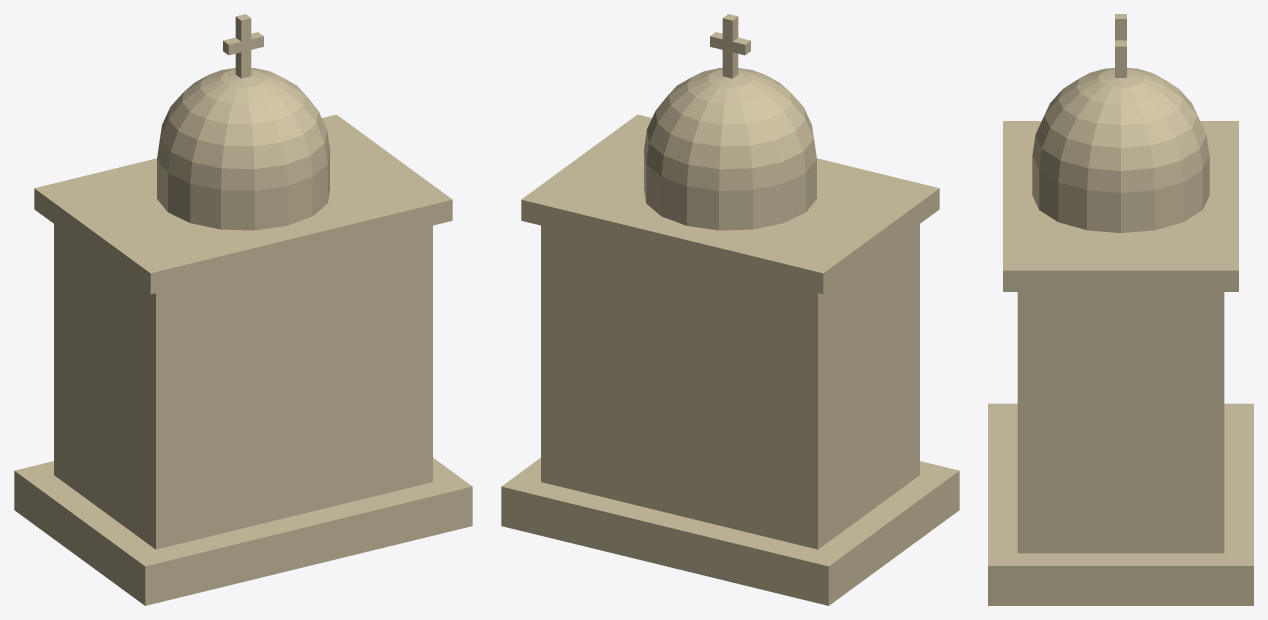
Rendered from tumba1.obj.
3 views of the same model, side by side, from view 1: azimuth 30°, elevation 25°; view 2: azimuth 150°, elevation 25°; view 3: azimuth 270°, elevation 25° (orthographic).
Parts seen in each view (by area): view 1: tumba1; view 2: tumba1; view 3: tumba1.
Part boxes in pixels (box(x1,y1,x2,y2)): tumba1: box(14, 14, 472, 605); tumba1: box(501, 14, 959, 605); tumba1: box(988, 14, 1253, 605).
Bounding box in the file's own units: 1.3 × 1.9 × 0.9.
Materials: 1 (1 with a texture image).
